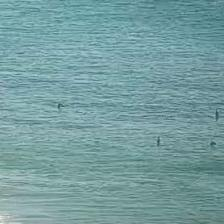surfer: (209, 140, 217, 147), (57, 103, 64, 109), (214, 110, 219, 117), (157, 137, 161, 144)
